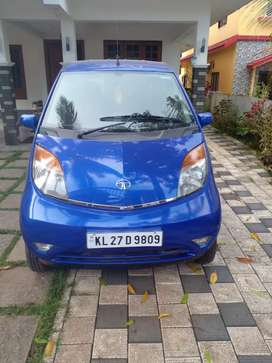KL27D9809: (86, 232, 161, 248)
